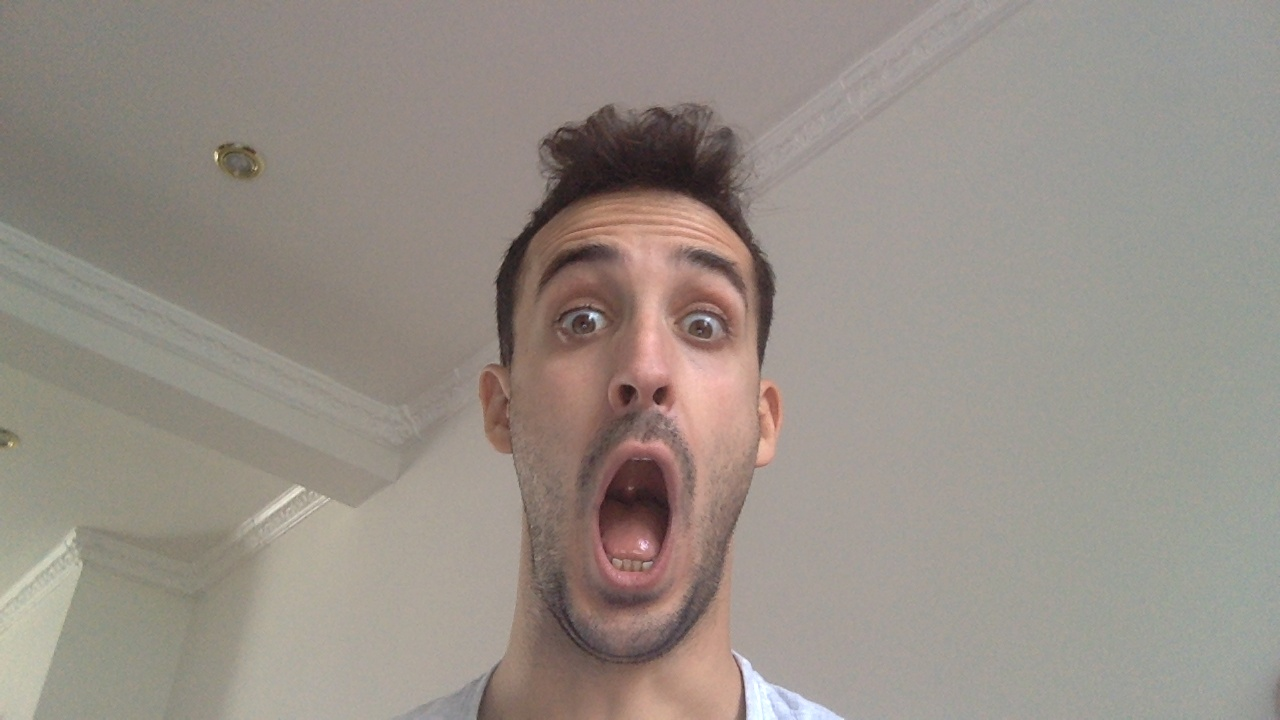surprise: (582, 435, 686, 596)
